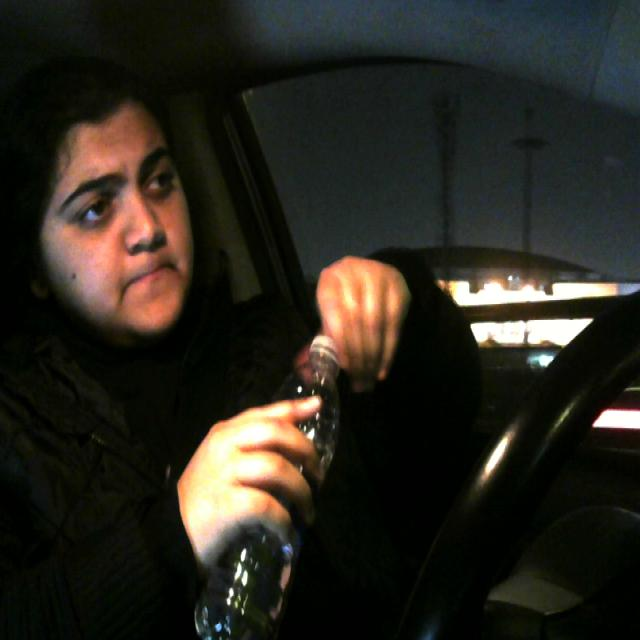drinking: (191, 304, 348, 639)
